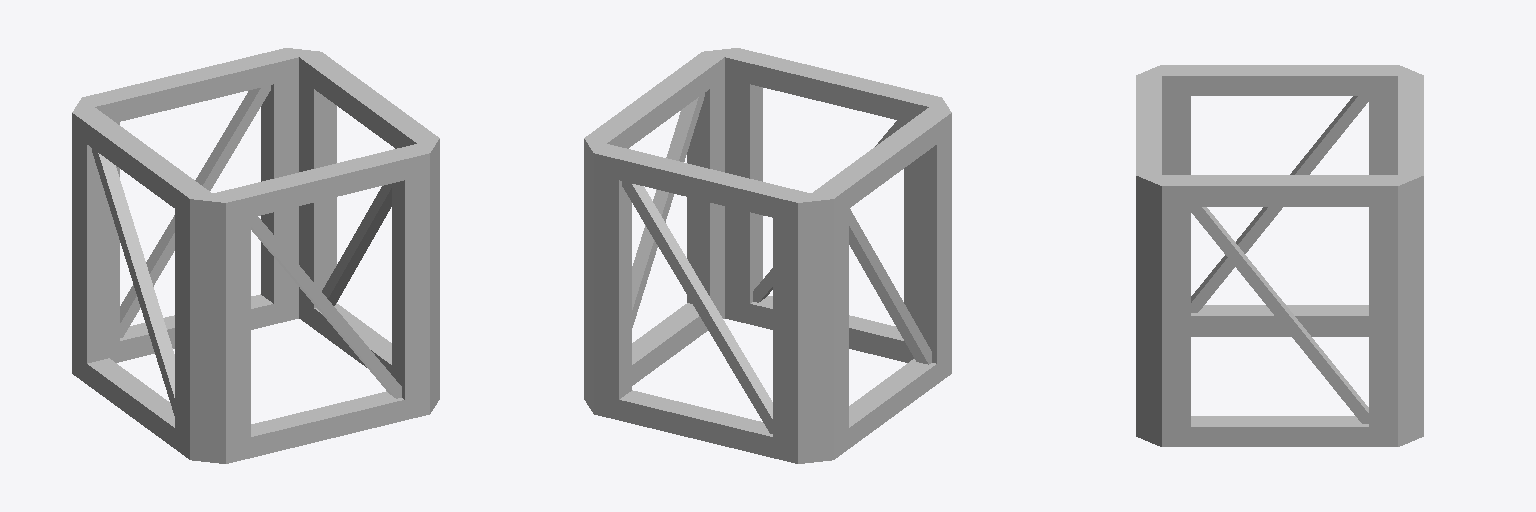
The model's file is metalStructureCross.obj.
The picture shows the model from 3 angles: view 1: azimuth 30°, elevation 25°; view 2: azimuth 150°, elevation 25°; view 3: azimuth 270°, elevation 25°; orthographic projection.
Visible parts, largest first — view 1: metalStructureCross; view 2: metalStructureCross; view 3: metalStructureCross.
Part boxes in pixels (x1,y1,x2,y2): metalStructureCross: (72,48,439,463); metalStructureCross: (584,48,951,463); metalStructureCross: (1136,65,1423,446).
Bounding box in the file's own units: 10 × 10 × 10.